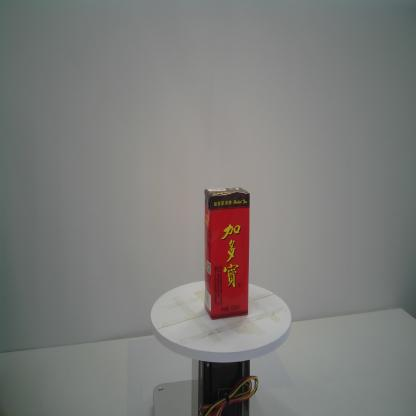Drink: (204, 186, 250, 322)
